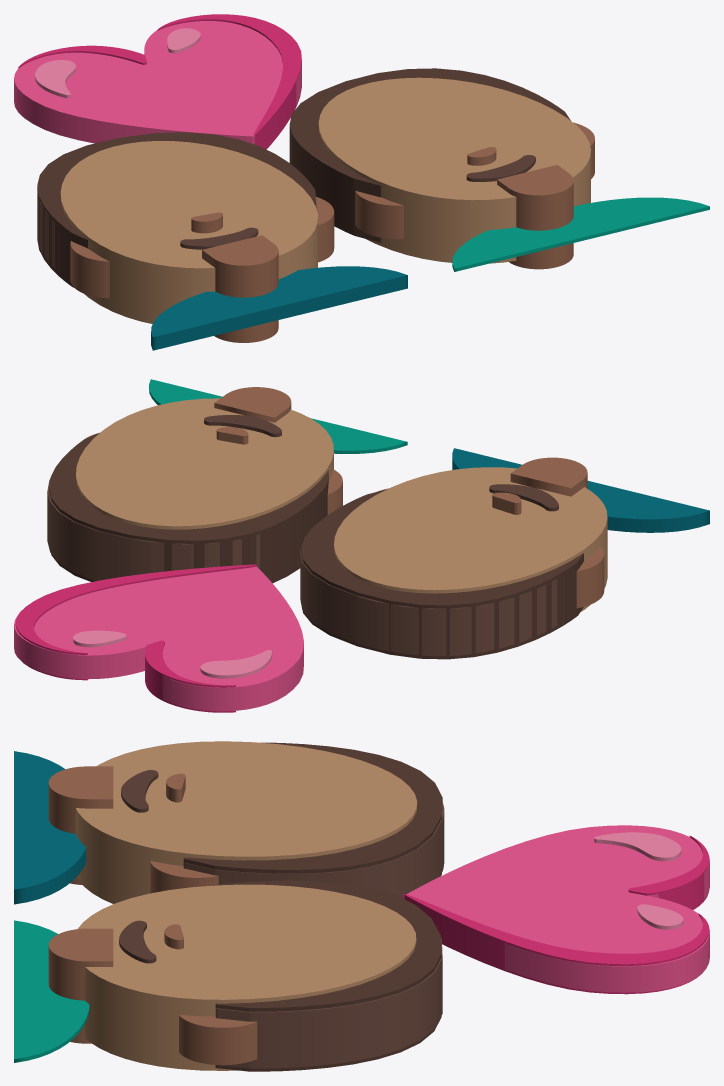
The model's file is emoji_u1f468_1f3fd_200d_2764_200d_1f468_1f3fd.glb.
The picture shows the model from 3 angles, top to bottom: view 1: azimuth 30°, elevation 25°; view 2: azimuth 150°, elevation 25°; view 3: azimuth 270°, elevation 25°; orthographic projection. The views are drawn at different scales.
Visible parts, largest first — view 1: emoji_u1f468_1f3fd_200d_2764_200d_1f468_1f3fd; view 2: emoji_u1f468_1f3fd_200d_2764_200d_1f468_1f3fd; view 3: emoji_u1f468_1f3fd_200d_2764_200d_1f468_1f3fd.
Boxes of the visible parts, x1,y1,x2,y2 form: emoji_u1f468_1f3fd_200d_2764_200d_1f468_1f3fd: (14,14,709,350); emoji_u1f468_1f3fd_200d_2764_200d_1f468_1f3fd: (14,379,709,712); emoji_u1f468_1f3fd_200d_2764_200d_1f468_1f3fd: (14,741,709,1071).
Size of the model in its own units: 0.0347 by 0.005 by 0.0337.
